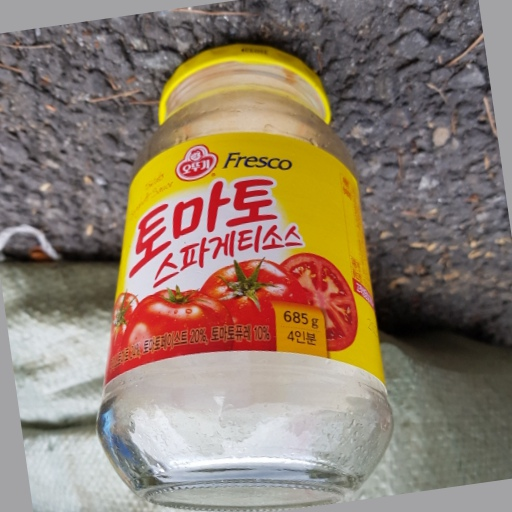Glass_5: (104, 44, 394, 512)
